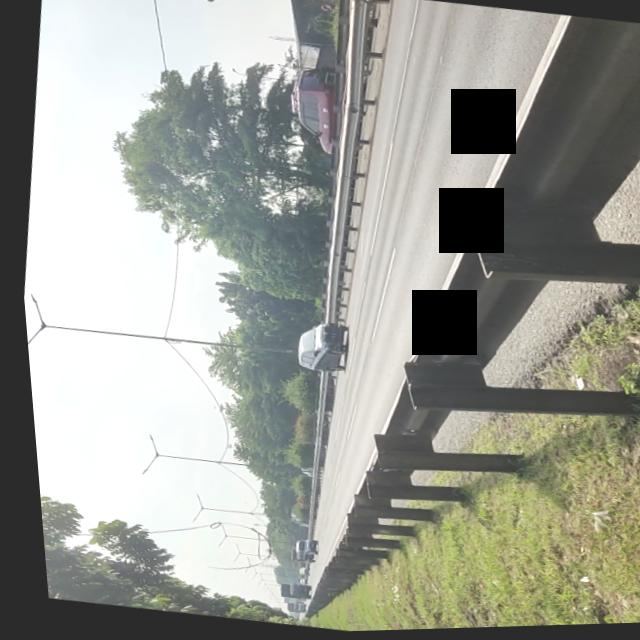Golongan I: (281, 318, 356, 379)
